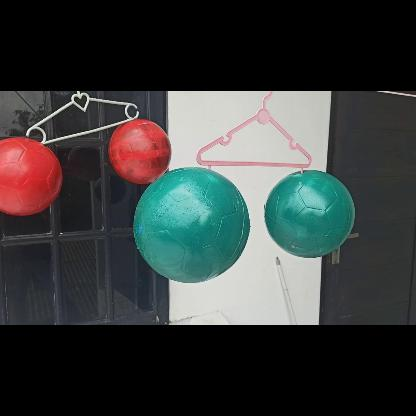red_ball: (0, 137, 59, 218), (106, 116, 172, 182)
